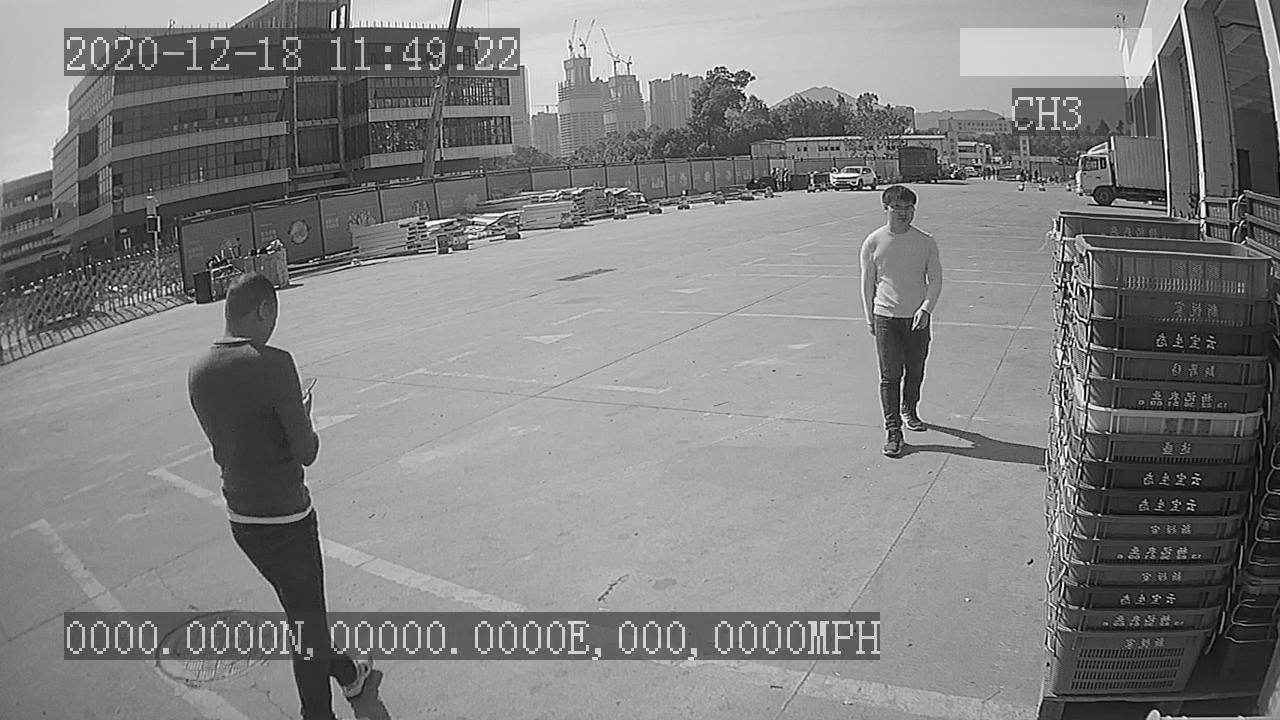person: (856, 183, 947, 460)
